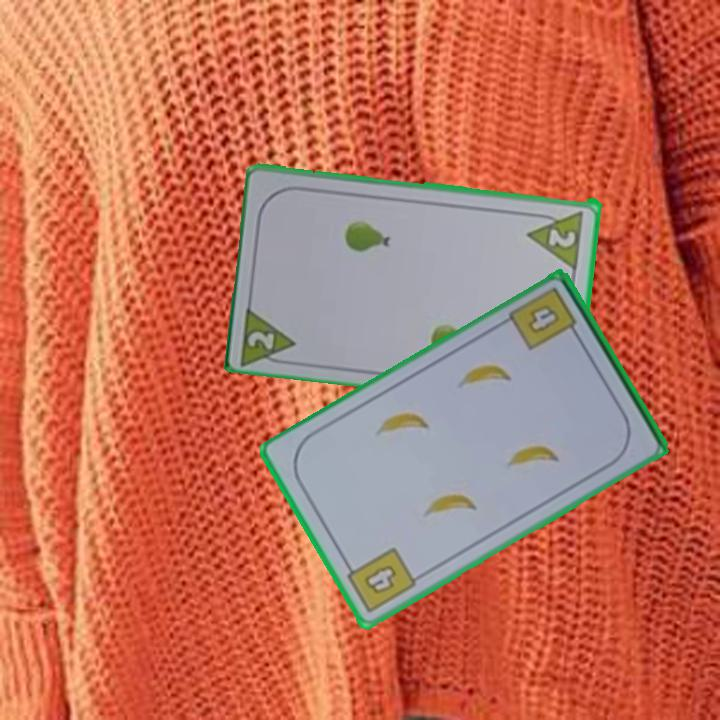2p: (545, 225, 579, 250), (244, 327, 278, 352)
4b: (340, 544, 420, 617), (505, 283, 583, 354)
